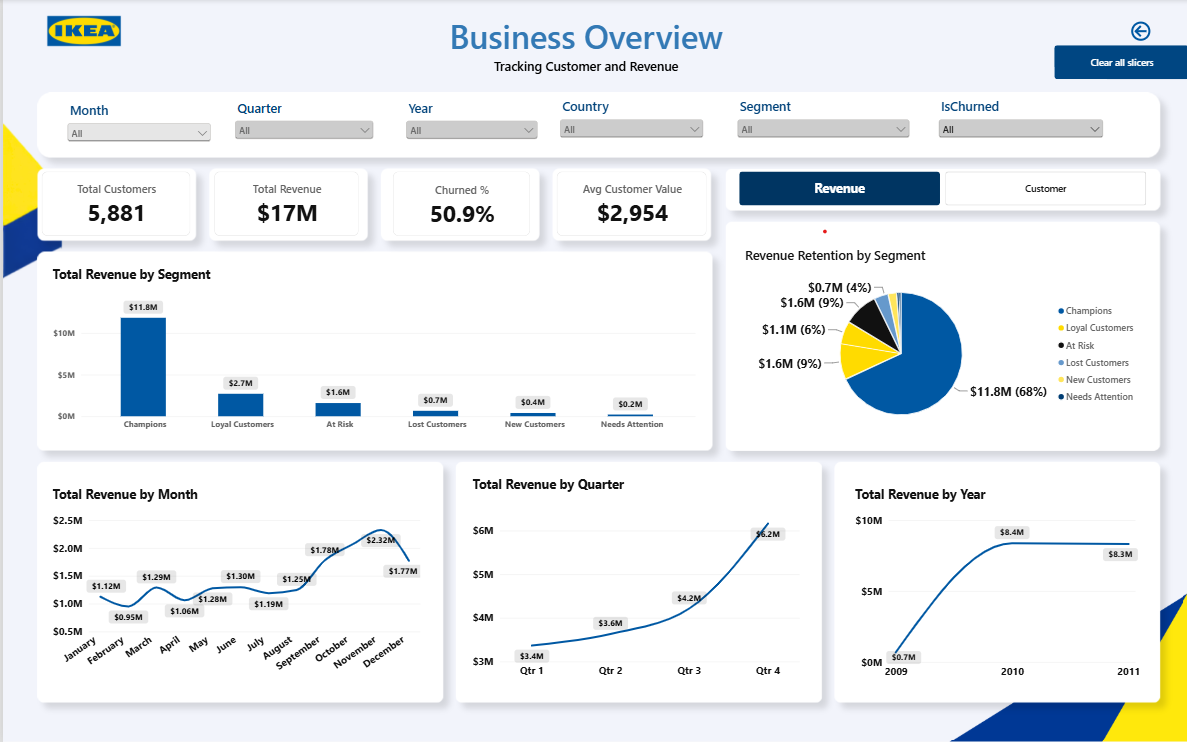

What the dashboard file says about the page in this screenshot:
{"tool":"powerbi","page":{"name":"Overview","canvas":[1750,1100],"ordinal":1},"visuals":[{"type":"cardVisual","fields":{"Data":["Sheet1.Total Customers"]},"box":[57.1,254.4,219.3,95.8],"z":0},{"type":"columnChart","title":"Customer Retention by Segment","fields":{"Category":["Sheet1.Segment"],"Series":["Sheet1.IsChurned"],"Y":["Sheet1.Total Customers"]},"box":[1078,336,614,320],"z":0,"group":"g1"},{"type":"pieChart","title":"Revenue Retention by Segment","fields":{"Category":["Sheet1.Segment"],"Series":["Sheet1.IsChurned"],"Y":["Sheet1.Total Revenue"]},"box":[1078,350,614,306],"z":1000},{"type":"columnChart","fields":{"Category":["Sheet1.Segment"],"Y":["Sheet1.Total Customers"]},"box":[58,378,980,278],"z":1000,"group":"g1"},{"type":"cardVisual","fields":{"Data":["Sheet1.Toatal Revenue"]},"box":[311.5,254.4,213.8,95.8],"z":2000},{"type":"lineChart","title":"Total Customer by Year","fields":{"Category":["Sheet1.InvoiceMonth.Variation.Date Hierarchy.Year"],"Y":["Sheet1.Total Customers"]},"box":[1229.7,688,462.6,333.6],"z":2000,"group":"g1"},{"type":"columnChart","fields":{"Category":["Sheet1.Segment"],"Y":["Sheet1.Toatal Revenue"]},"box":[58,378,980,278],"z":3000},{"type":"lineChart","title":"Total Customer by Quarter","fields":{"Category":["Sheet1.InvoiceMonth.Variation.Date Hierarchy.Quarter"],"Y":["Sheet1.Total Customers"]},"box":[676,688,514,334],"z":3000,"group":"g1"},{"type":"cardVisual","fields":{"Data":["Sheet1.Churned %"]},"box":[575.1,254.4,202.7,95.8],"z":4000},{"type":"lineChart","title":"Total Customer by Month","fields":{"Category":["Sheet1.InvoiceMonth.Variation.Date Hierarchy.Month"],"Y":["Sheet1.Total Customers"]},"box":[54.3,691.7,576.9,329.9],"z":4000,"group":"g1"},{"type":"lineChart","title":"Total Revenue by Year","fields":{"Category":["Sheet1.InvoiceMonth.Variation.Date Hierarchy.Year"],"Y":["Sheet1.Total Revenue"]},"box":[1240,702,452,320],"z":5000},{"type":"cardVisual","fields":{"Data":["Sheet1.Avg Customer Value"]},"box":[816.5,254.4,221.2,95.8],"z":6000},{"type":"lineChart","title":"Total Revenue by Quarter","fields":{"Category":["Sheet1.InvoiceMonth.Variation.Date Hierarchy.Quarter"],"Y":["Sheet1.Total Revenue"]},"box":[676,688,514,334],"z":7000},{"type":"slicer","fields":{"Values":["Sheet1.InvoiceDate.Variation.Date Hierarchy.Month"]},"box":[90.3,151.1,221.2,71.9],"z":8000},{"type":"lineChart","title":"Total Revenue by Month","fields":{"Category":["Sheet1.InvoiceMonth.Variation.Date Hierarchy.Month"],"Y":["Sheet1.Total Revenue"]},"box":[58,702,574,320],"z":9000},{"type":"slicer","fields":{"Values":["Sheet1.InvoiceDate.Variation.Date Hierarchy.Quarter"]},"box":[337.3,147.5,213.8,75.6],"z":10000},{"type":"slicer","fields":{"Values":["Sheet1.InvoiceDate.Variation.Date Hierarchy.Year"]},"box":[589.8,147.5,203,150],"z":11000},{"type":"slicer","fields":{"Values":["Sheet1.Country"]},"box":[816.5,145.6,221,150],"z":12000},{"type":"slicer","fields":{"Values":["Sheet1.Segment"]},"box":[1078.3,145.6,263.6,232.2],"z":13000},{"type":"slicer","fields":{"Values":["Sheet1.IsChurned"]},"box":[1375,145.6,252.5,300.4],"z":14000},{"type":"group","id":"g1","title":"Customer","box":[54.3,336,1638,686],"z":15000},{"type":"bookmarkNavigator","box":[1086,254,600,50],"z":16000},{"type":"image","box":[38,0,162,94],"z":18000},{"type":"textbox","box":[460,22,798,96],"z":19000},{"type":"actionButton","box":[1628,28,100,40],"z":20000},{"type":"actionButton","box":[1550,68,200,50],"z":21000}]}

Visuals, with their boxes in screenshot pixels (x1, y1, x2, y2), scaled from the page's 1750x1100 canvas onto the 1187x742 screenshot:
cardVisual - Sheet1.Total Customers: 39,172,187,236
"Customer Retention by Segment" columnChart: 731,227,1148,443
"Revenue Retention by Segment" pieChart: 731,236,1148,443
columnChart - Sheet1.Segment x Sheet1.Total Customers: 39,255,704,443
cardVisual - Sheet1.Toatal Revenue: 211,172,356,236
"Total Customer by Year" lineChart: 834,464,1148,689
columnChart - Sheet1.Segment x Sheet1.Toatal Revenue: 39,255,704,443
"Total Customer by Quarter" lineChart: 459,464,807,689
cardVisual - Sheet1.Churned %: 390,172,528,236
"Total Customer by Month" lineChart: 37,467,428,689
"Total Revenue by Year" lineChart: 841,474,1148,689
cardVisual - Sheet1.Avg Customer Value: 554,172,704,236
"Total Revenue by Quarter" lineChart: 459,464,807,689
slicer - Sheet1.InvoiceDate.Variation.Date Hierarchy.Month: 61,102,211,150
"Total Revenue by Month" lineChart: 39,474,429,689
slicer - Sheet1.InvoiceDate.Variation.Date Hierarchy.Quarter: 229,99,374,150
slicer - Sheet1.InvoiceDate.Variation.Date Hierarchy.Year: 400,99,538,201
slicer - Sheet1.Country: 554,98,704,199
slicer - Sheet1.Segment: 731,98,910,255
slicer - Sheet1.IsChurned: 933,98,1104,301
"Customer" group: 37,227,1148,689
bookmarkNavigator: 737,171,1144,205
image: 26,0,136,63
textbox: 312,15,853,80
actionButton: 1104,19,1172,46
actionButton: 1051,46,1186,80
